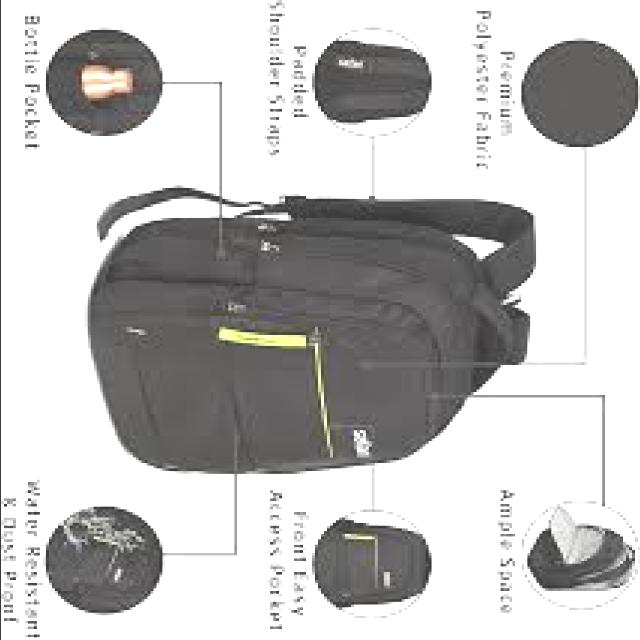backpack: (88, 189, 540, 475)
